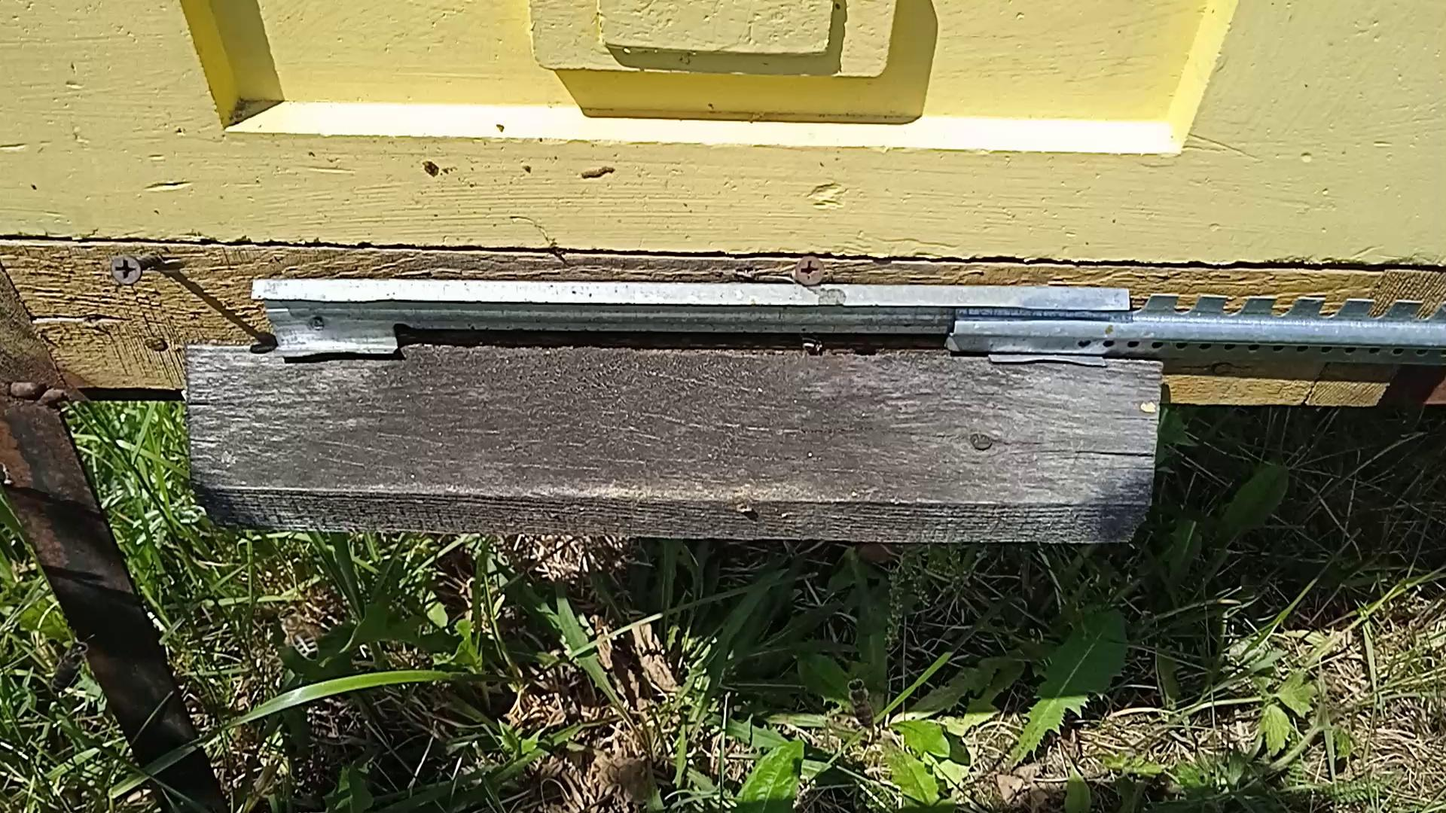worker-bee: (278, 605, 323, 660), (50, 643, 87, 694), (847, 677, 876, 732), (798, 331, 826, 355)
